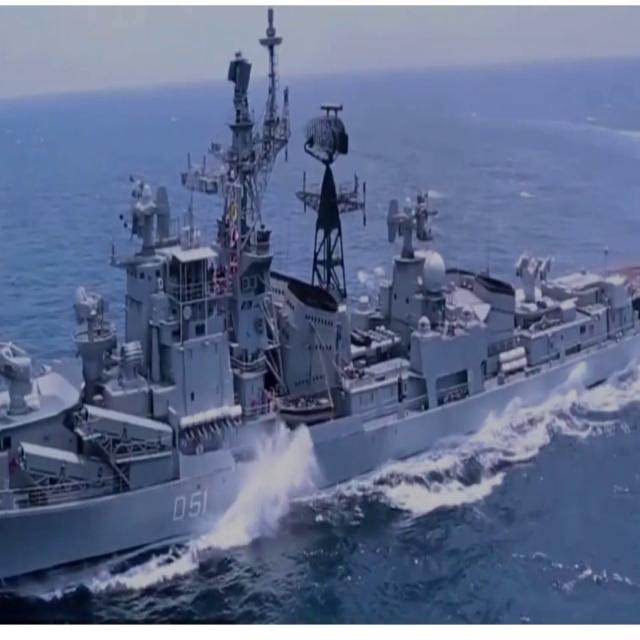OCR: (163, 479, 214, 530)
